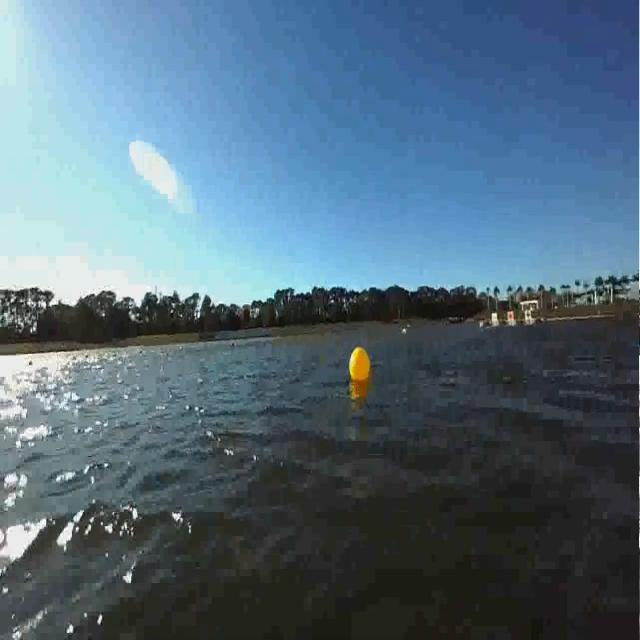yellow-buoy: (348, 346, 371, 386)
